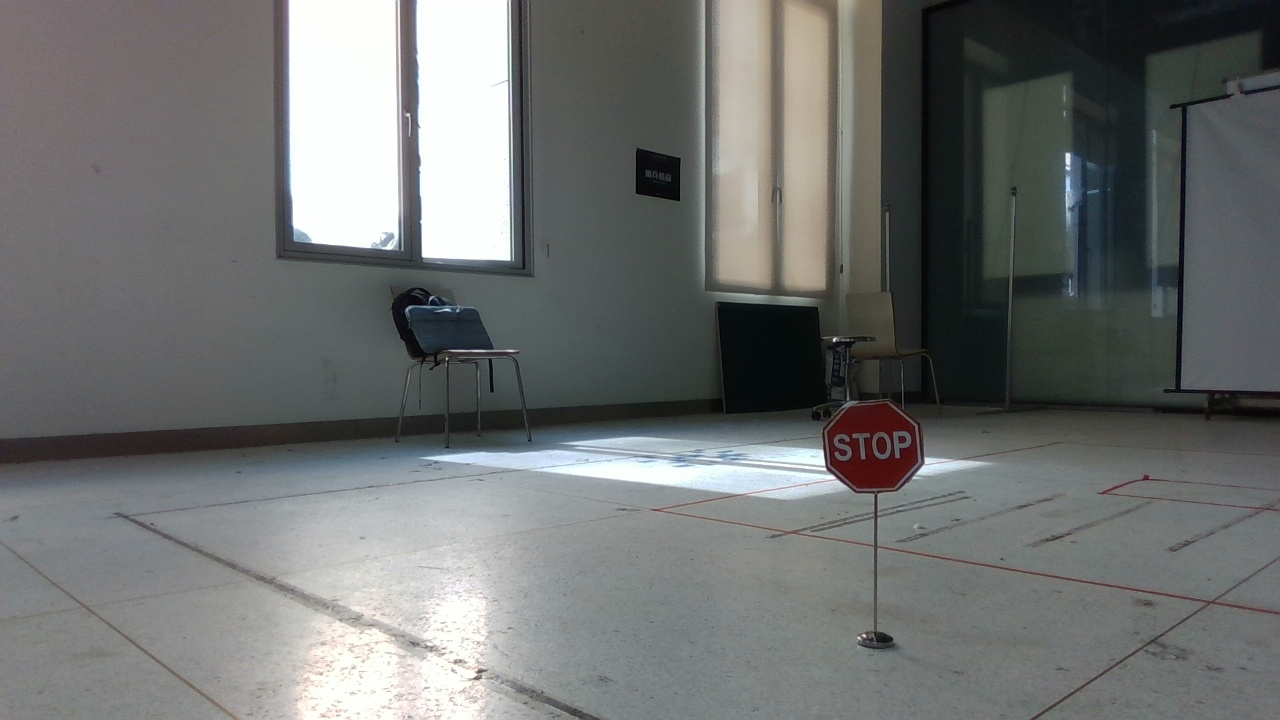stop_sign: (811, 389, 930, 502)
